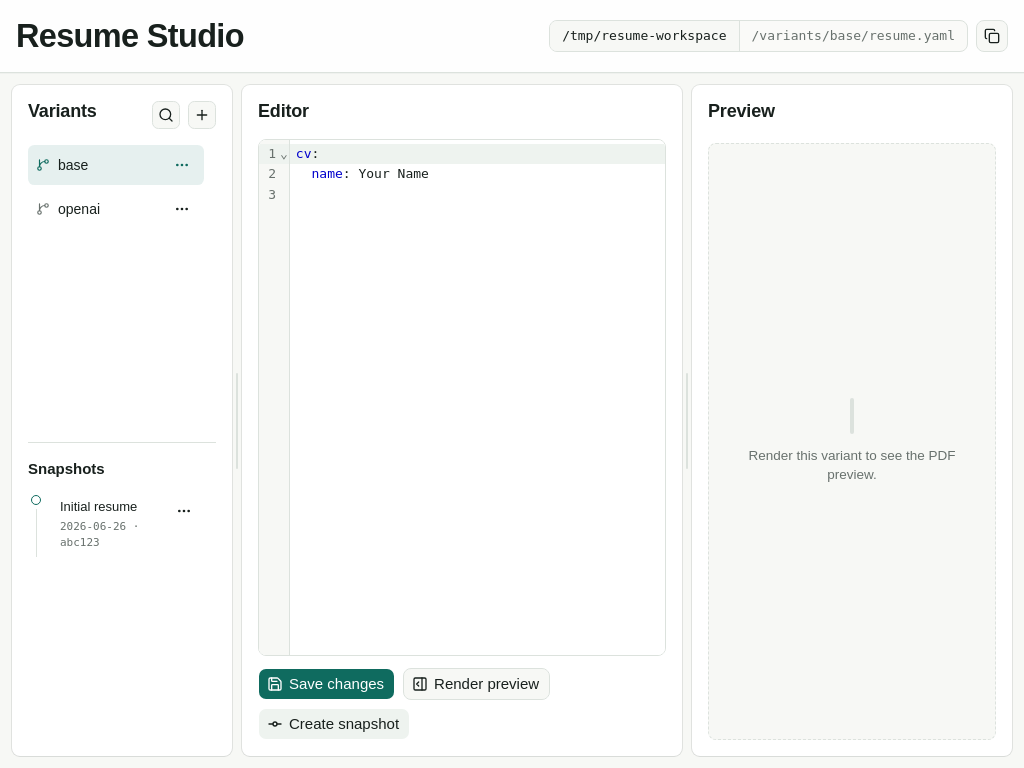
Resume Studio app › creates a variant from the new variant dialog
Click the button named "new variant".
click(202, 115)  # box x1=188 y1=101 x2=216 y2=129
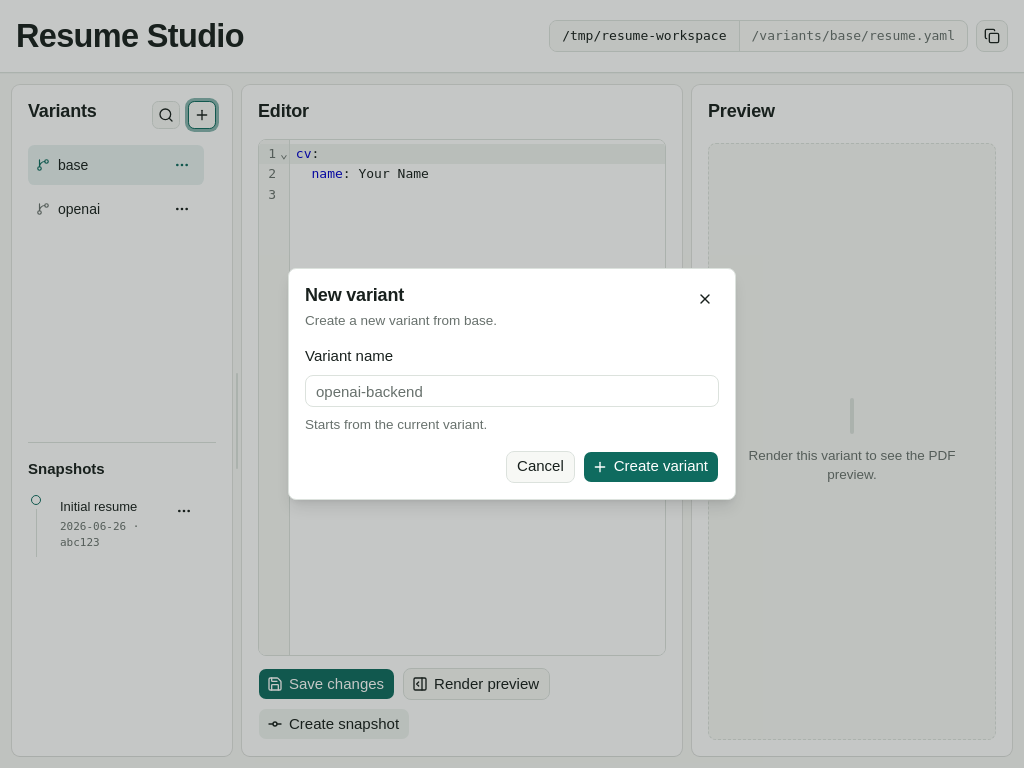
Type "Backend" into the field labelled "Variant name".
click(512, 391); type("Backend")  # box x1=305 y1=375 x2=719 y2=407
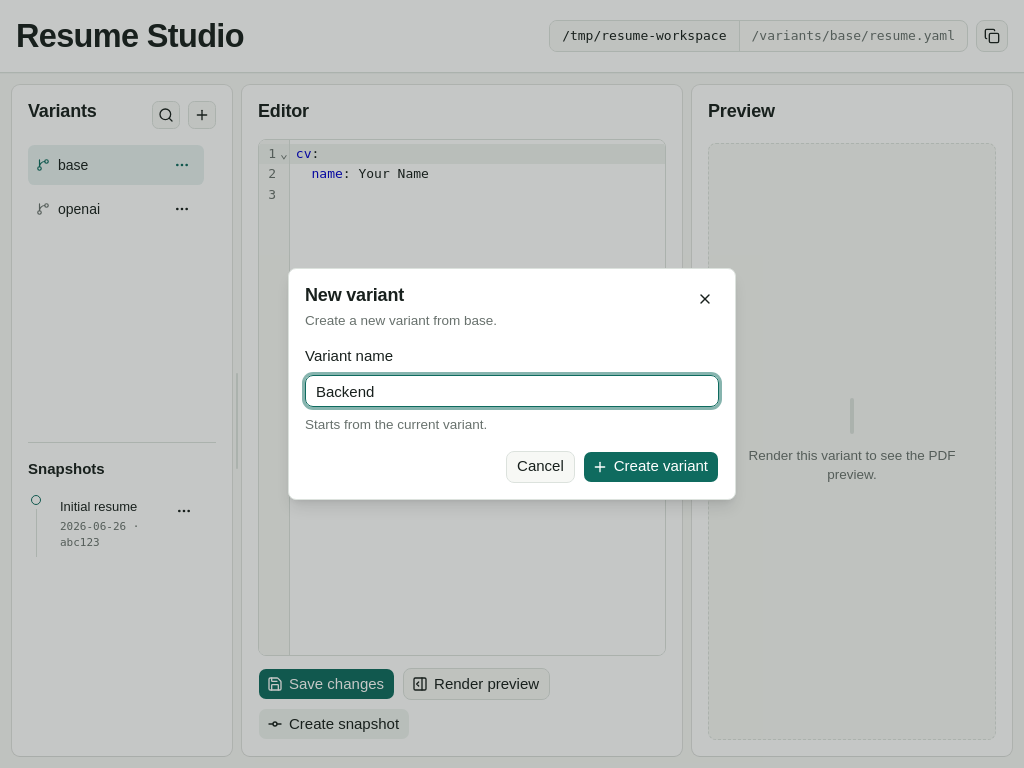
Click the button "Create variant".
click(651, 467)  # box x1=583 y1=451 x2=719 y2=483
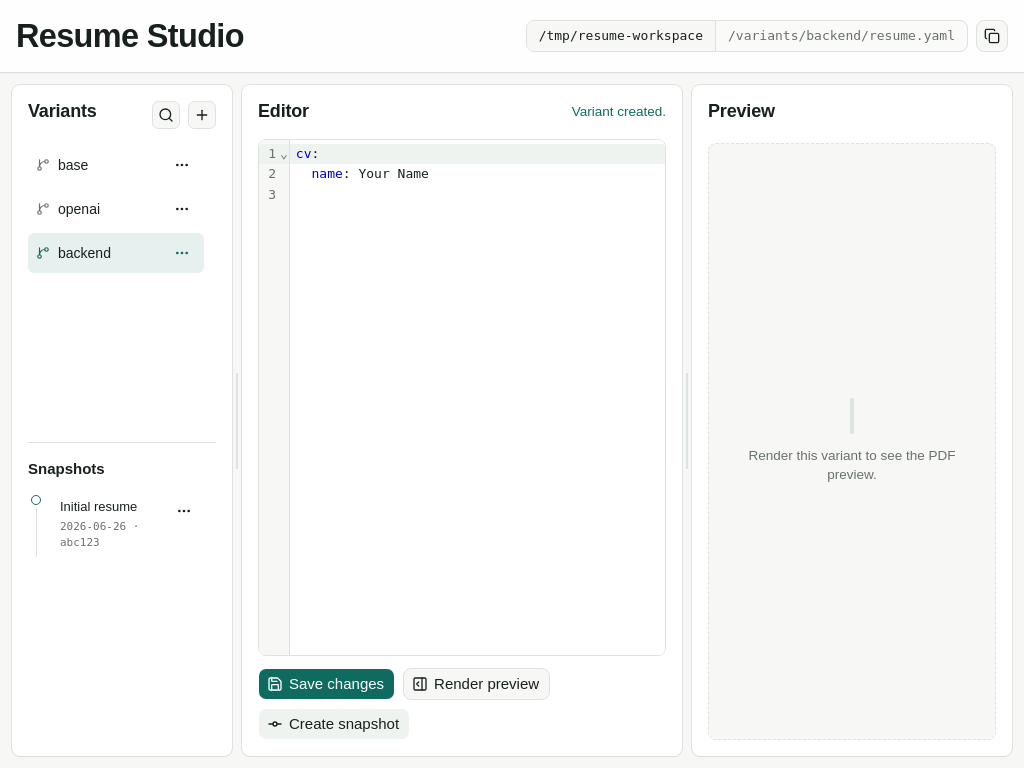
Check: the text "Variant created." is shown, box x1=572 y1=102 x2=666 y2=122
